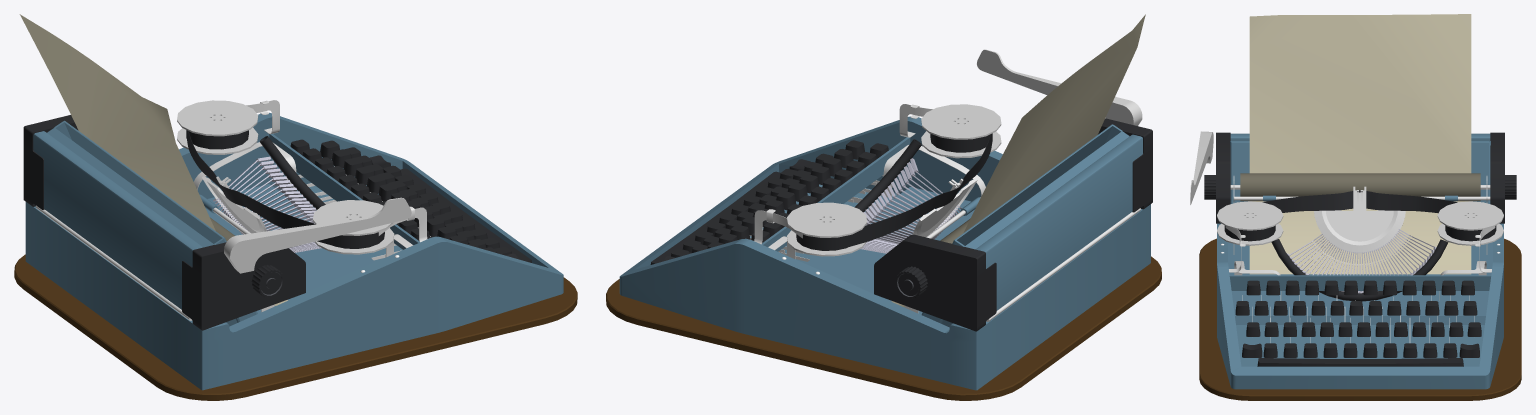
The model's file is typewriter.glb.
3 renders of one model, left to right at view 1: azimuth 30°, elevation 25°; view 2: azimuth 150°, elevation 25°; view 3: azimuth 270°, elevation 25°, orthographic. The views are drawn at different scales.
Parts seen in each view (by area): view 1: Cube, Plane.001, Plane.002, Cube.006, Cube.001, Cube.003, Plane.005, Cylinder.010, Cylinder, Cube.008, Cube.002, Plane (+10 smaller); view 2: Cube, Plane.001, Cube.006, Plane.002, Cube.001, Cube.003, Cylinder, Cylinder.010, Cube.008, Plane.005, Plane, Cube.005 (+10 smaller); view 3: Plane.002, Cube, Plane.001, Cylinder.001, Circle.001, Cube.002, Cube.008, Cube.009, Plane, Cube.005, Cylinder.010, Cylinder (+11 smaller).
Boxes of the visible parts, x1,y1,x2,y2 form: Cube: [25, 112, 563, 390]; Plane.001: [14, 254, 577, 400]; Plane.002: [19, 14, 287, 305]; Cube.006: [33, 131, 202, 309]; Cube.001: [23, 115, 305, 330]; Cube.003: [47, 120, 257, 326]; Plane.005: [224, 197, 411, 273]; Cylinder.010: [177, 100, 258, 154]; Cylinder: [313, 200, 394, 254]; Cube.008: [320, 140, 479, 247]; Cube.002: [269, 134, 419, 249]; Plane: [186, 130, 334, 245]; Cube: [619, 116, 1150, 390]; Plane.001: [606, 256, 1161, 400]; Cube.006: [975, 134, 1142, 310]; Plane.002: [891, 14, 1145, 307]; Cube.001: [874, 118, 1152, 331]; Cube.003: [921, 124, 1129, 327]; Cylinder: [921, 104, 1001, 158]; Cylinder.010: [787, 202, 867, 256]; Cube.008: [707, 140, 864, 248]; Plane.005: [977, 49, 1142, 125]; Plane: [847, 133, 992, 247]; Cube.005: [747, 143, 888, 242]; Plane.002: [1249, 14, 1471, 274]; Cube: [1217, 223, 1503, 389]; Plane.001: [1199, 238, 1521, 400]; Cylinder.001: [1240, 173, 1480, 201]; Circle.001: [1314, 186, 1405, 253]; Cube.002: [1229, 275, 1491, 290]; Cube.008: [1235, 301, 1477, 315]; Cube.009: [1246, 322, 1481, 336]; Plane: [1262, 190, 1457, 213]; Cube.005: [1246, 280, 1474, 295]; Cylinder.010: [1437, 201, 1503, 245]; Cylinder: [1217, 201, 1283, 245].
Size of the model in its own units: 1166 by 746 by 996.
